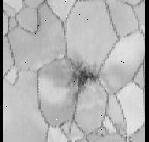good_void: (65, 55, 100, 101)
